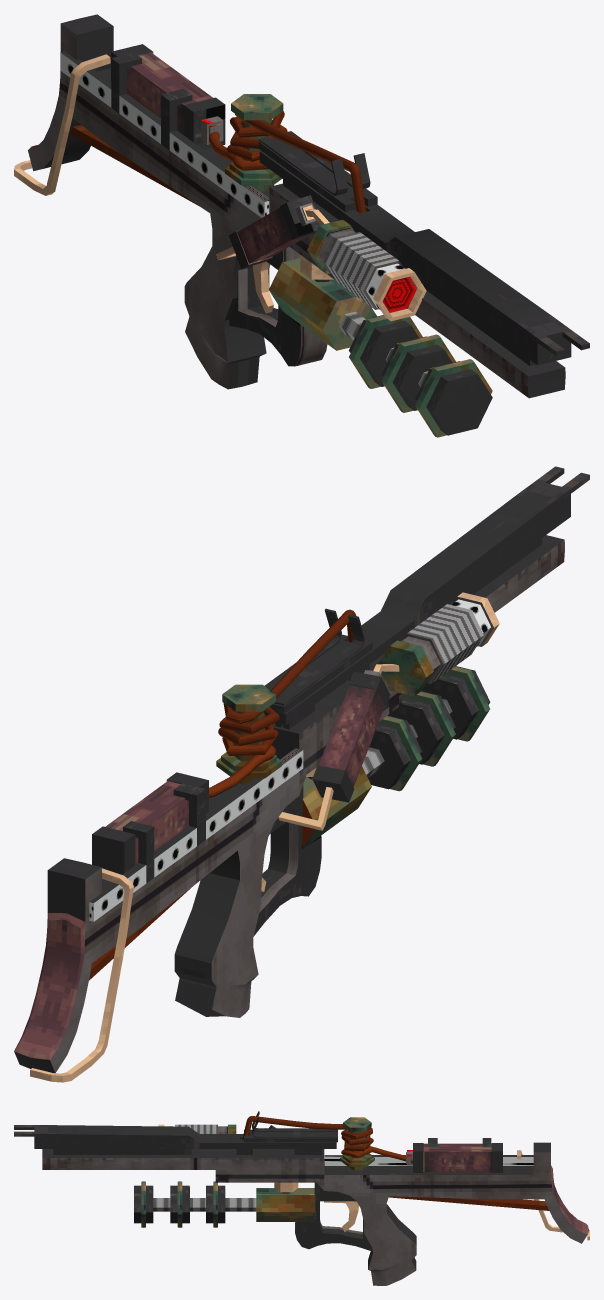
File: GunMain.fbx
3 renders of one model, top to bottom at view 1: azimuth 30°, elevation 25°; view 2: azimuth 150°, elevation 25°; view 3: azimuth 270°, elevation 25°, orthographic. The views are drawn at different scales.
Visible parts, largest first — view 1: Cylinder.023; view 2: Cylinder.023; view 3: Cylinder.023.
Part boxes in pixels (<box>): Cylinder.023: <box>14,14,589,437</box>; Cylinder.023: <box>14,466,589,1082</box>; Cylinder.023: <box>14,1111,589,1285</box>.
Size of the model in its own units: 43.66 by 130 by 405.
